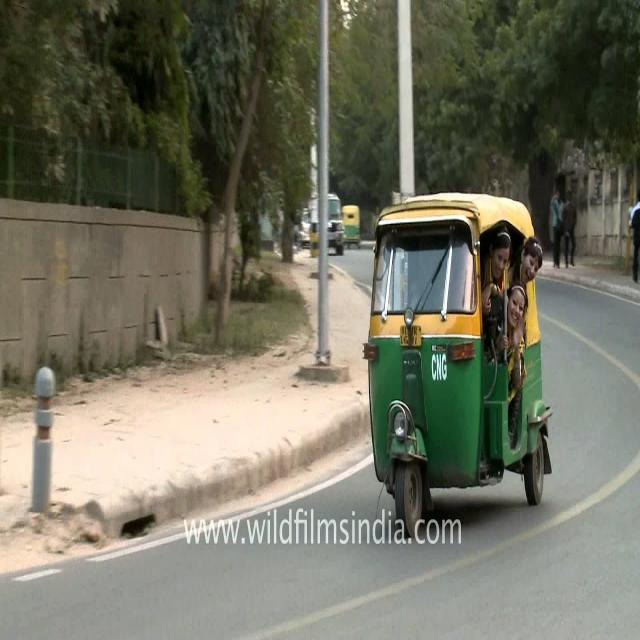autorikshaw: (367, 190, 547, 530)
